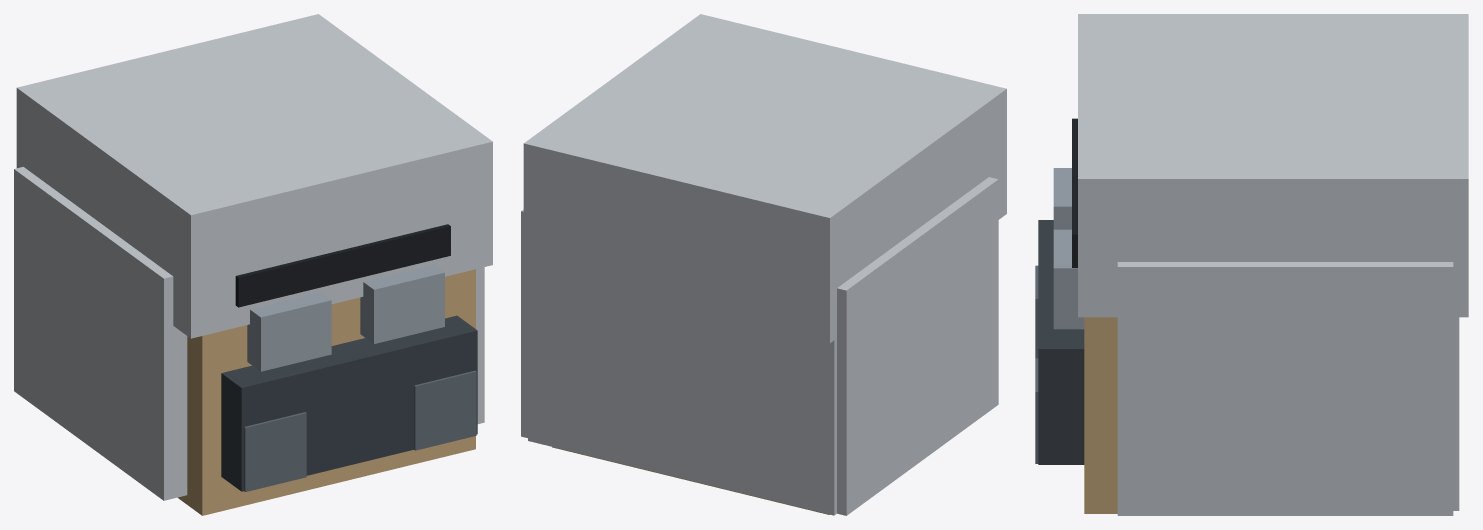
File: pc_epi_head.fbx
3 renders of one model, left to right at view 1: azimuth 30°, elevation 25°; view 2: azimuth 150°, elevation 25°; view 3: azimuth 270°, elevation 25°, orthographic. The views are drawn at different scales.
Visible parts, largest first — view 1: pc_epi_head; view 2: pc_epi_head; view 3: pc_epi_head.
Part boxes in pixels (bbox=[...]): pc_epi_head: bbox=[14, 14, 492, 515]; pc_epi_head: bbox=[521, 14, 1006, 515]; pc_epi_head: bbox=[1035, 14, 1468, 515].
Size of the model in its own units: 136 by 124 by 142.
